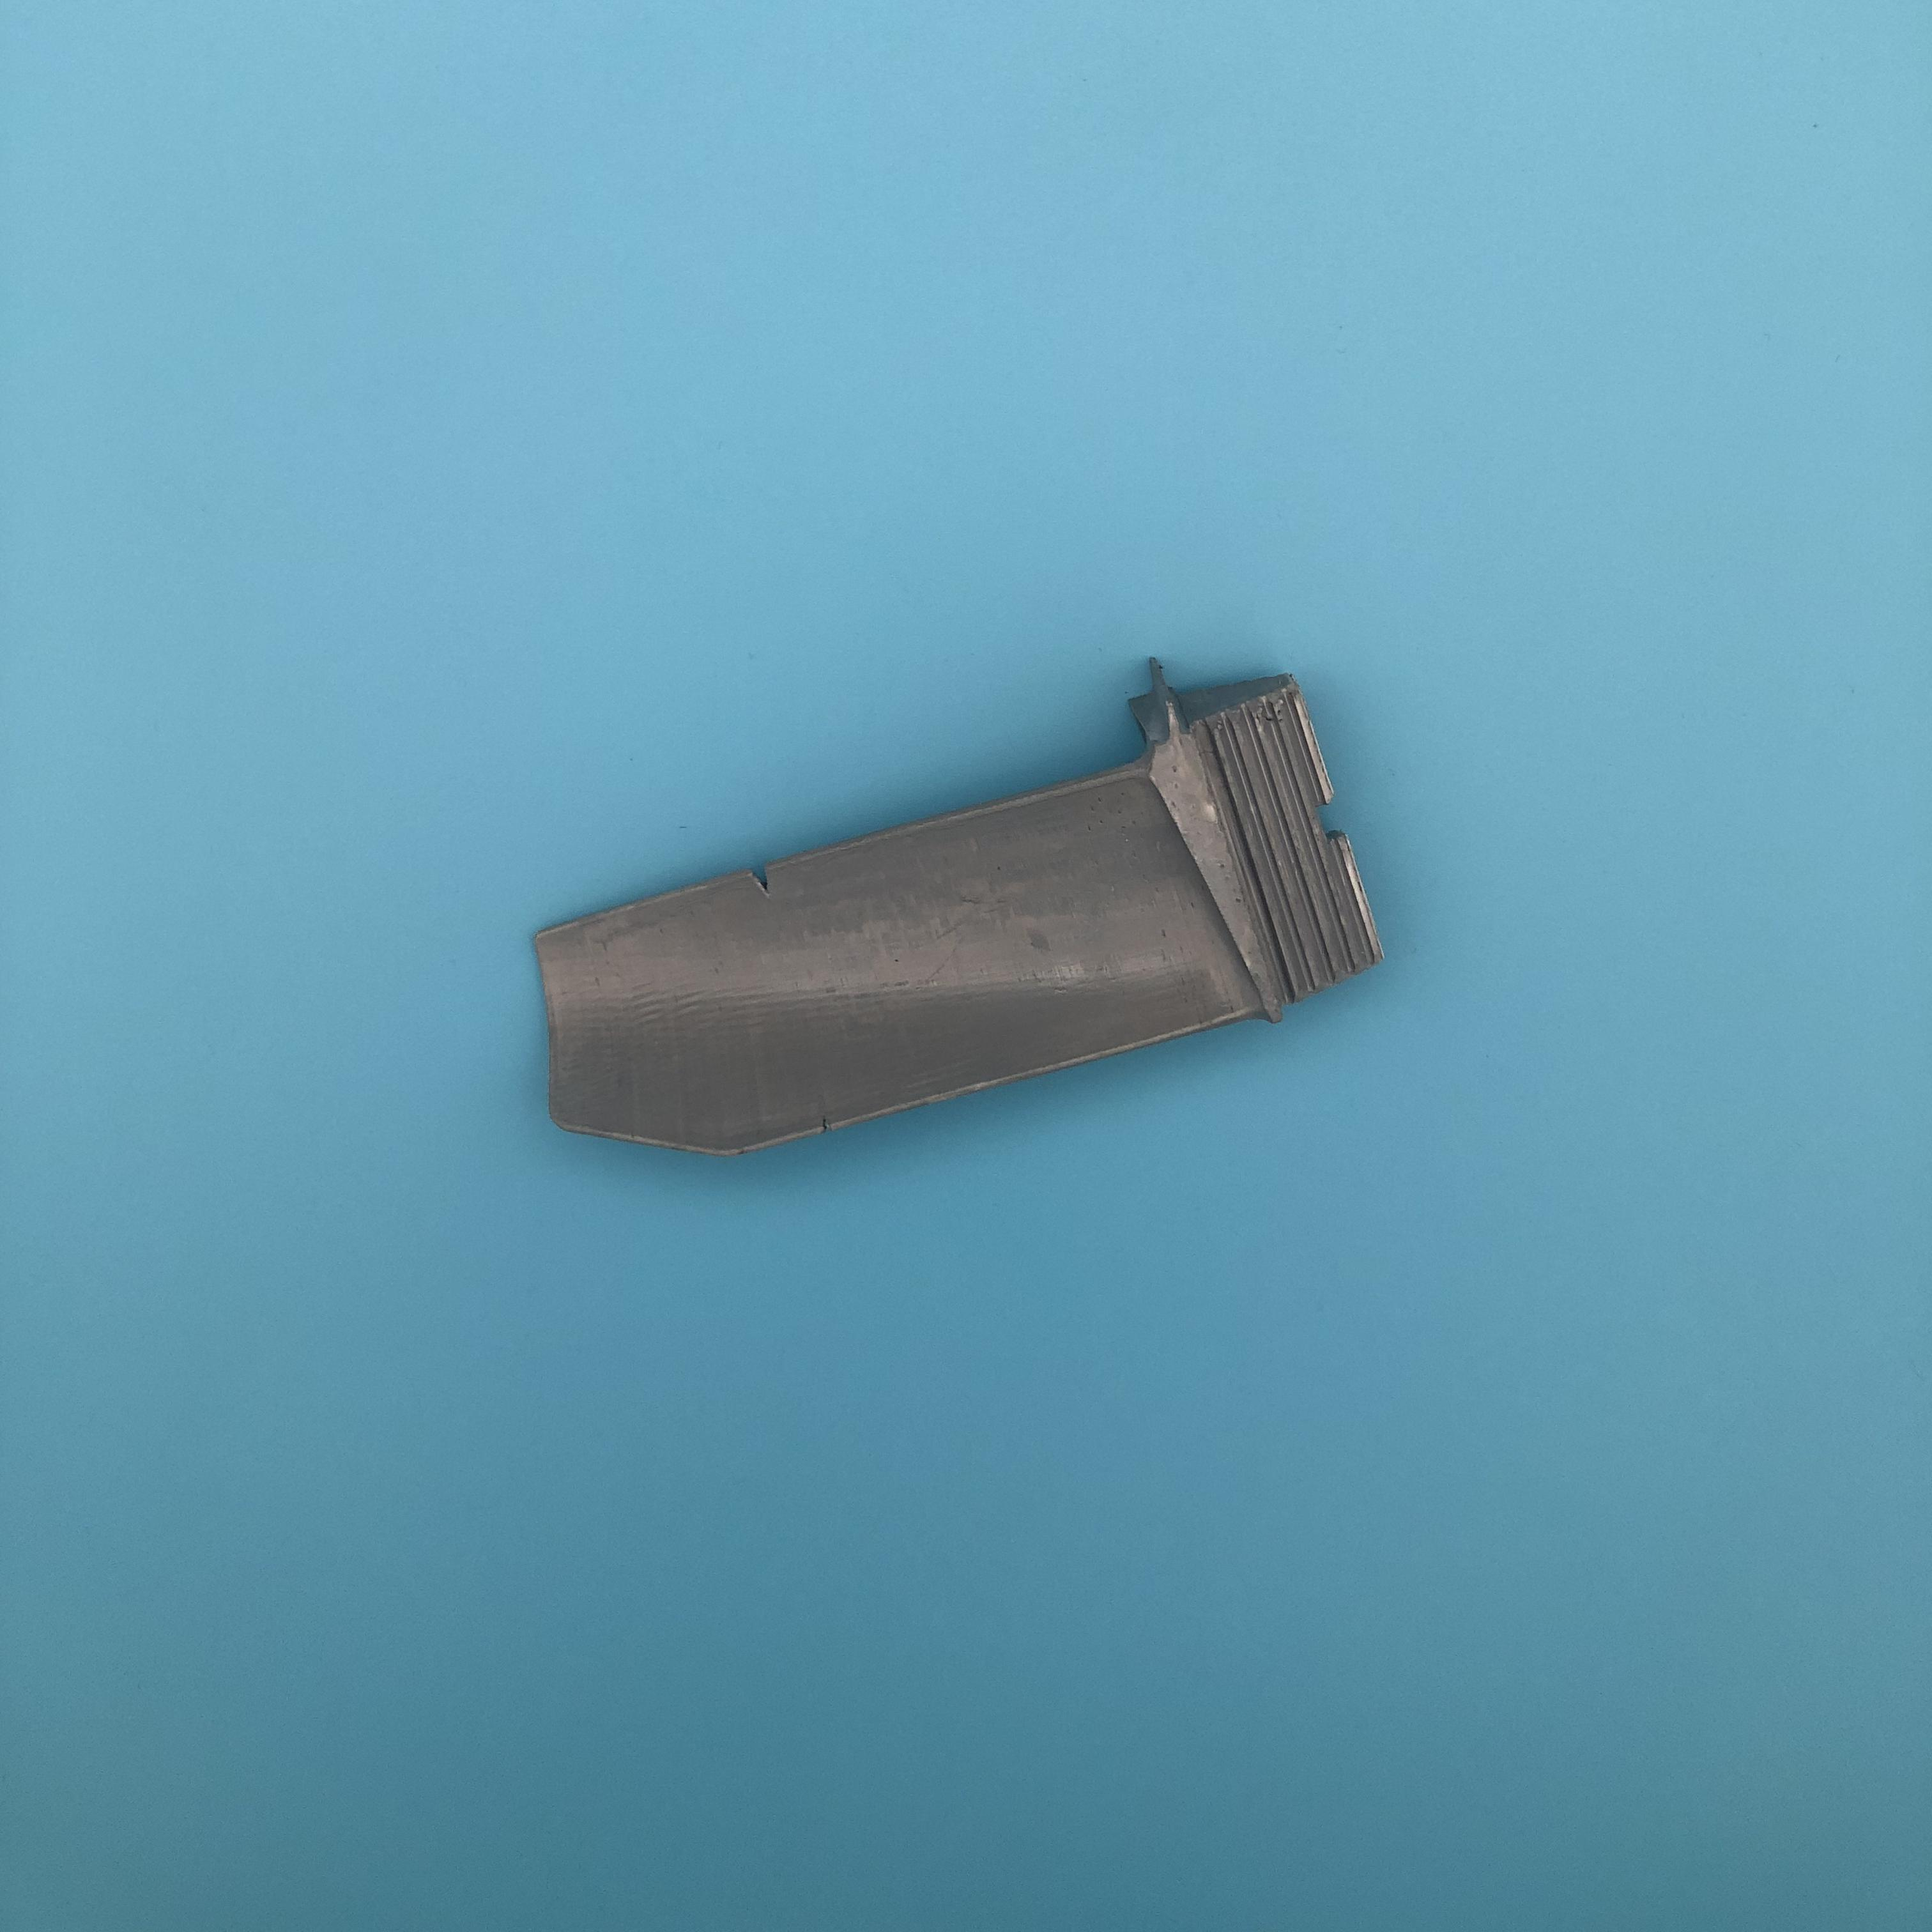groove: (743, 870, 793, 893), (814, 1118, 839, 1138)
